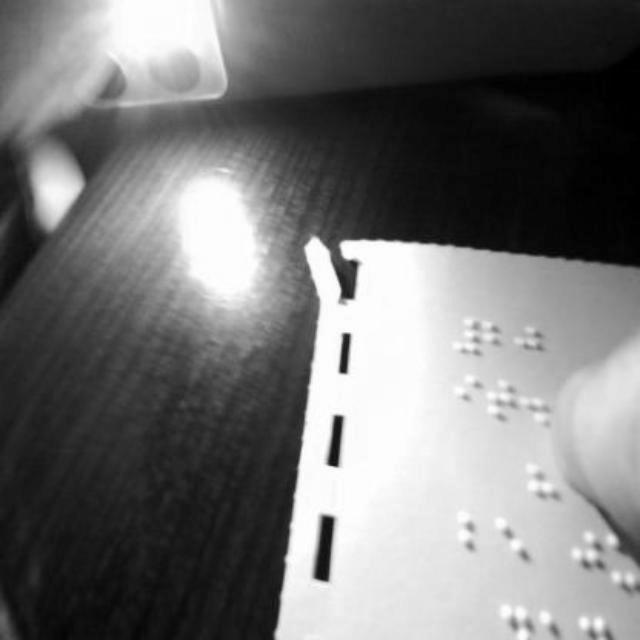braiile: (494, 513, 530, 583), (457, 508, 489, 574), (486, 374, 518, 438), (454, 373, 482, 431), (484, 316, 512, 368), (516, 321, 542, 371)
